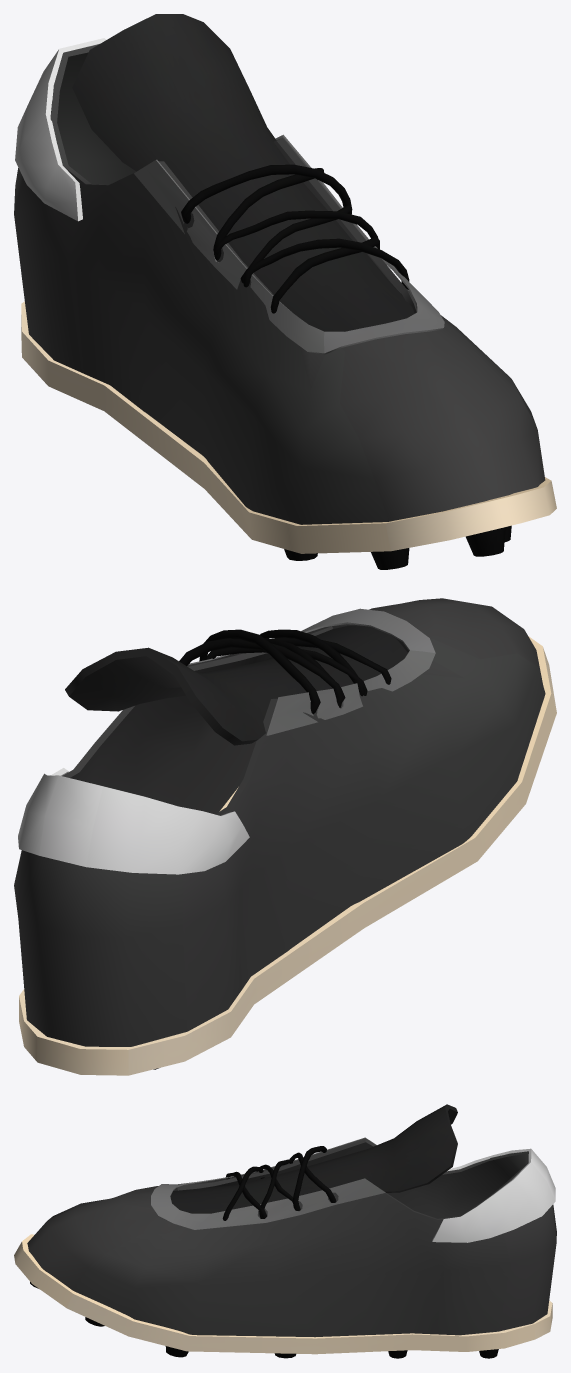
File: sport shoes.fbx
3 views of the same model, one above another, from view 1: azimuth 30°, elevation 25°; view 2: azimuth 150°, elevation 25°; view 3: azimuth 270°, elevation 25° (orthographic). The views are drawn at different scales.
Parts seen in each view (by area): view 1: polySurface16, polySurface18, polySurface23, polySurface15, polySurface17, polySurface11, polySurface21, polySurface7, polySurface12, polySurface22, polySurface8, polySurface26; view 2: polySurface16, polySurface23, polySurface17, polySurface18, polySurface15, polySurface12, polySurface11, polySurface21, polySurface8, polySurface22; view 3: polySurface16, polySurface23, polySurface18, polySurface17, polySurface15, polySurface11, polySurface21, polySurface12, polySurface7.
Boxes of the visible parts, box(x1,y1,x2,y2) form: polySurface16: box(14, 45, 545, 524); polySurface18: box(72, 14, 414, 331); polySurface23: box(21, 301, 556, 553); polySurface15: box(134, 134, 444, 354); polySurface17: box(15, 38, 106, 221); polySurface11: box(181, 164, 352, 223); polySurface21: box(240, 238, 409, 289); polySurface7: box(213, 210, 379, 254); polySurface12: box(213, 168, 324, 260); polySurface22: box(270, 237, 379, 313); polySurface8: box(243, 205, 351, 287); polySurface26: box(466, 527, 505, 556); polySurface16: box(14, 598, 545, 1046); polySurface23: box(19, 636, 556, 1075); polySurface17: box(18, 768, 249, 874); polySurface18: box(65, 626, 407, 745); polySurface15: box(187, 608, 435, 735); polySurface12: box(179, 638, 342, 707); polySurface11: box(199, 629, 320, 713); polySurface21: box(260, 629, 364, 696); polySurface8: box(207, 647, 367, 695); polySurface22: box(270, 637, 391, 684); polySurface16: box(27, 1139, 556, 1337); polySurface23: box(14, 1234, 552, 1354); polySurface18: box(170, 1104, 457, 1213); polySurface17: box(432, 1148, 555, 1242); polySurface15: box(151, 1137, 385, 1230); polySurface11: box(292, 1146, 326, 1210); polySurface21: box(222, 1166, 264, 1220); polySurface12: box(289, 1152, 336, 1202); polySurface7: box(259, 1159, 291, 1218).
Bounding box in the file's own units: 19.91 × 29.98 × 63.74.
Materials: 1 (1 with a texture image).
